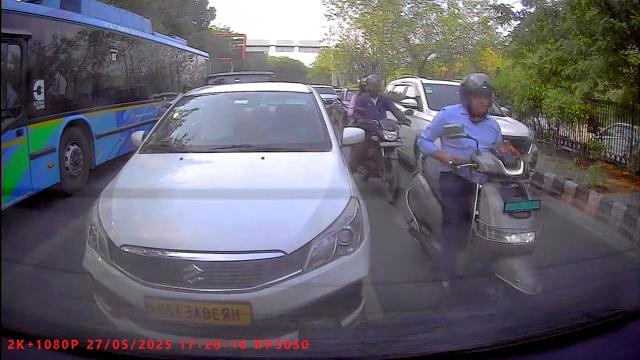motorcycle_with_helmet: (413, 71, 544, 305), (349, 71, 401, 206)
